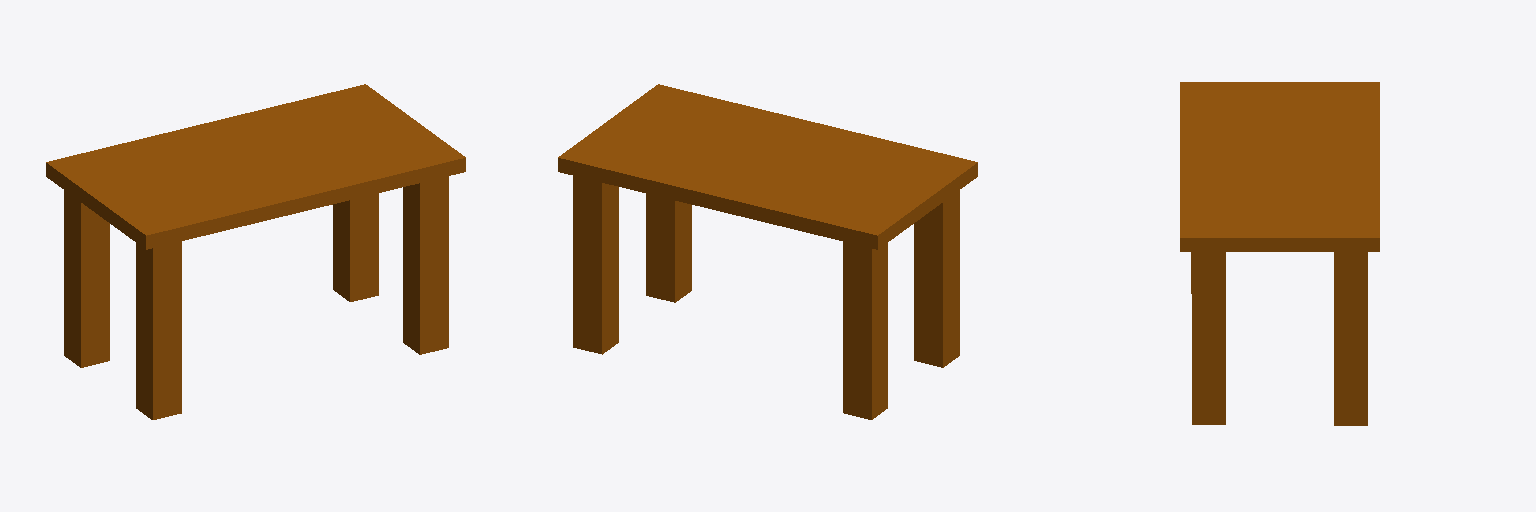
Rendered from table.obj.
The picture shows the model from 3 angles: view 1: azimuth 30°, elevation 25°; view 2: azimuth 150°, elevation 25°; view 3: azimuth 270°, elevation 25°; orthographic projection.
Visible parts, largest first — view 1: Cube.003_Cube.004; view 2: Cube.003_Cube.004; view 3: Cube.003_Cube.004.
Boxes of the visible parts, box(x1,y1,x2,y2) form: Cube.003_Cube.004: box(46, 84, 465, 419); Cube.003_Cube.004: box(558, 84, 977, 419); Cube.003_Cube.004: box(1180, 82, 1379, 425).
Bounding box in the file's own units: 3.68 × 2.11 × 2.